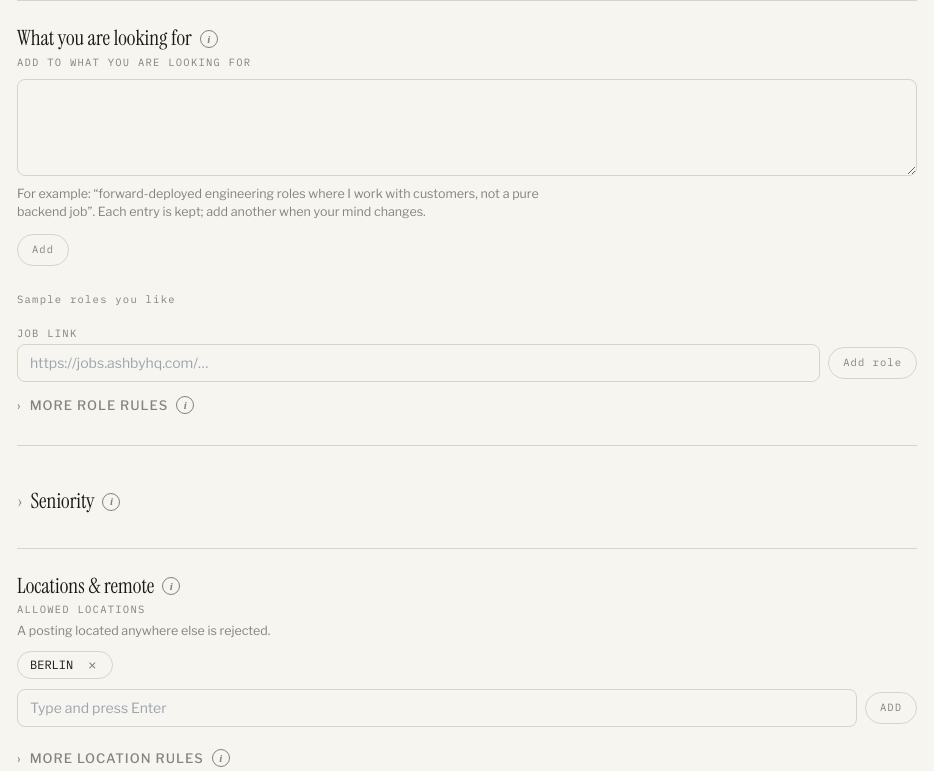
Test case: preferences screen › removes a chip
This screenshot has width=934, height=771.
(page scrolled)
Expected: the heading "What you are looking for" is shown, [17, 23, 192, 55]
Click the button "› More role rules" at [93, 405], box [17, 396, 168, 415]
(page scrolled)
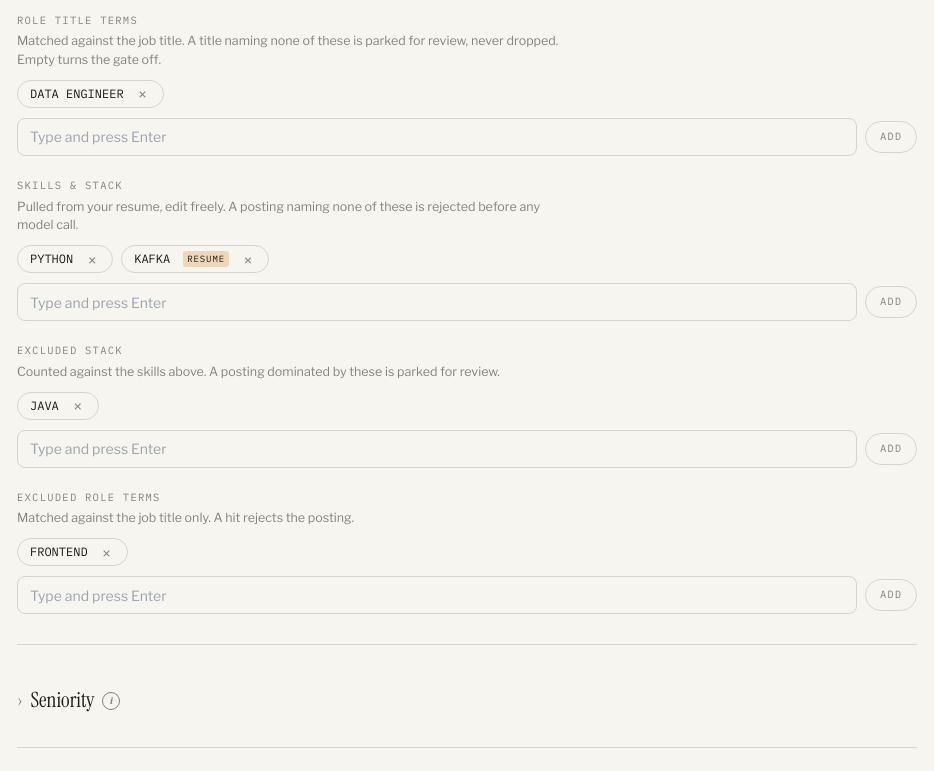
Click the button named "Remove JAVA" at [78, 406], box [66, 394, 90, 418]
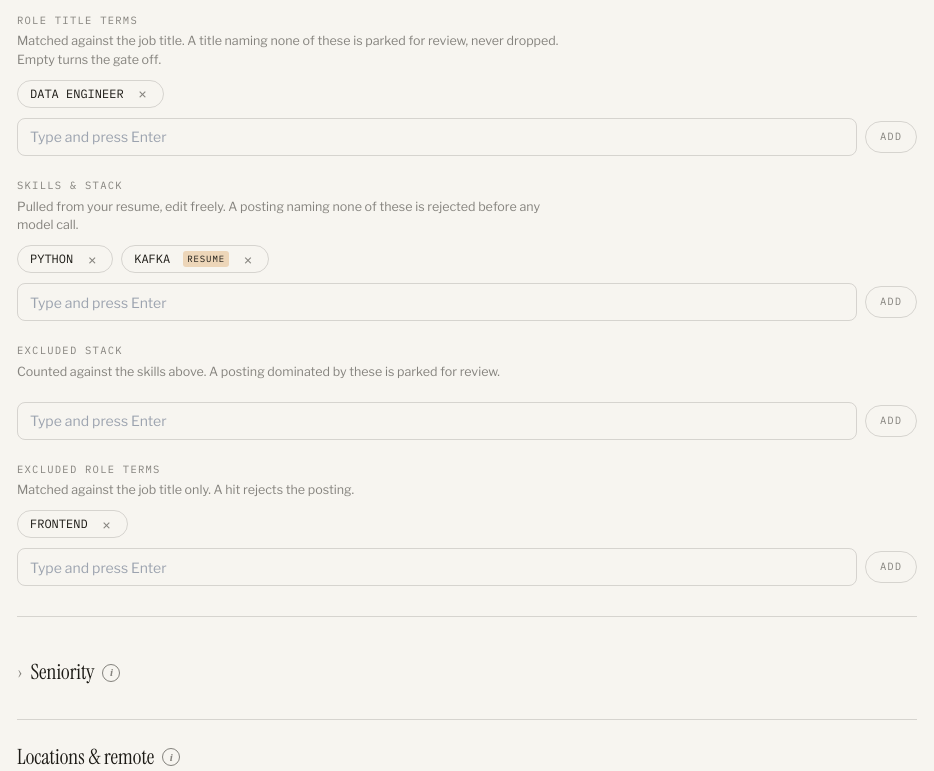
Now the list item "JAVA" is gone
